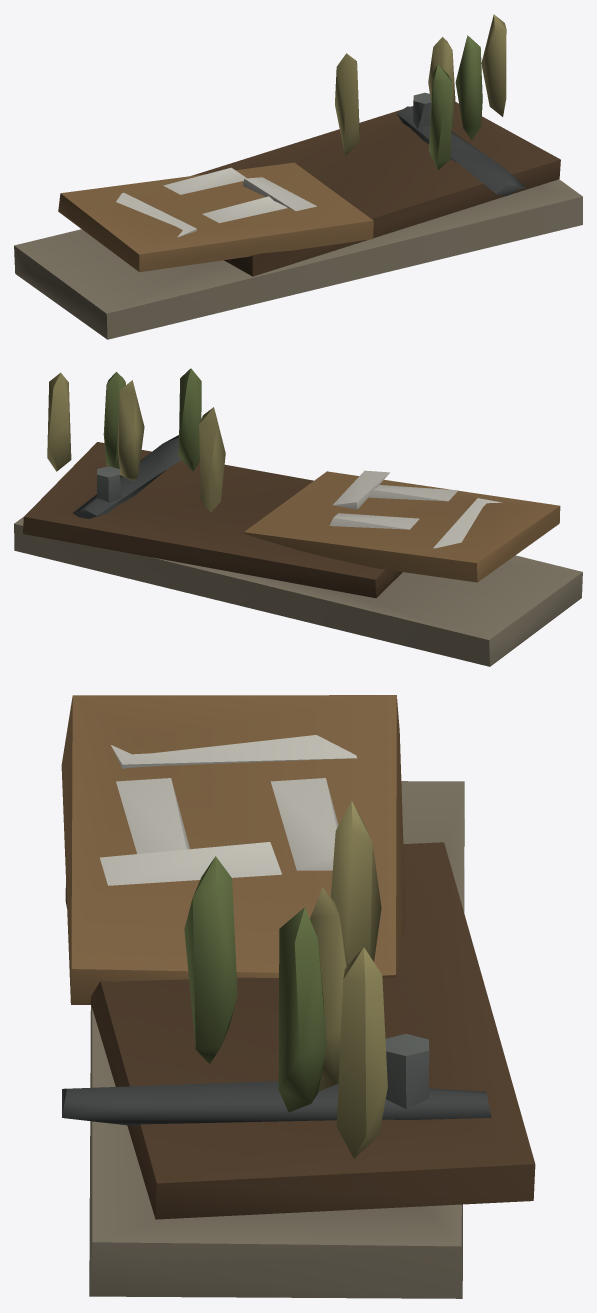
File: bent_numbers_a_lod2.glb
The picture shows the model from 3 angles, top to bottom: view 1: azimuth 30°, elevation 25°; view 2: azimuth 150°, elevation 25°; view 3: azimuth 270°, elevation 25°; orthographic projection. The views are drawn at different scales.
Parts seen in each view (by area): view 1: Surface.001; view 2: Surface.001; view 3: Surface.001.
Boxes of the visible parts, box(x1,y1,x2,y2) form: Surface.001: box(14, 14, 582, 339); Surface.001: box(14, 368, 582, 666); Surface.001: box(61, 695, 535, 1298).
Size of the model in its own units: 2.61 by 0.8526 by 1.1.
